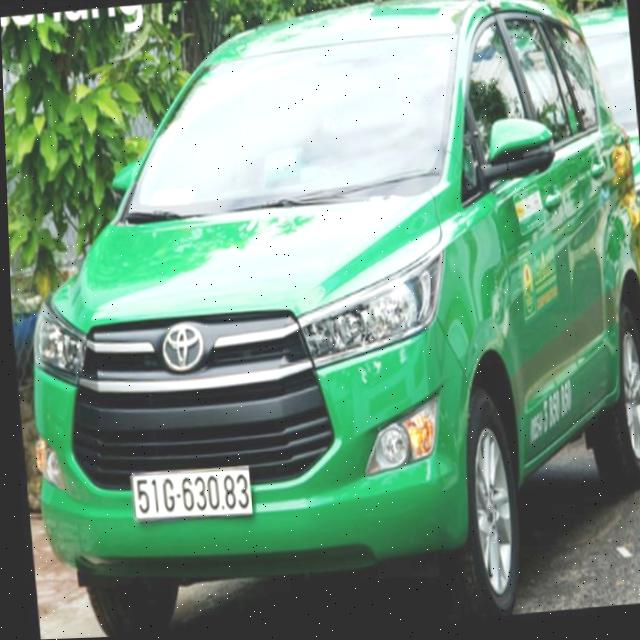car: (5, 0, 640, 626)
plate: (125, 462, 260, 527)
